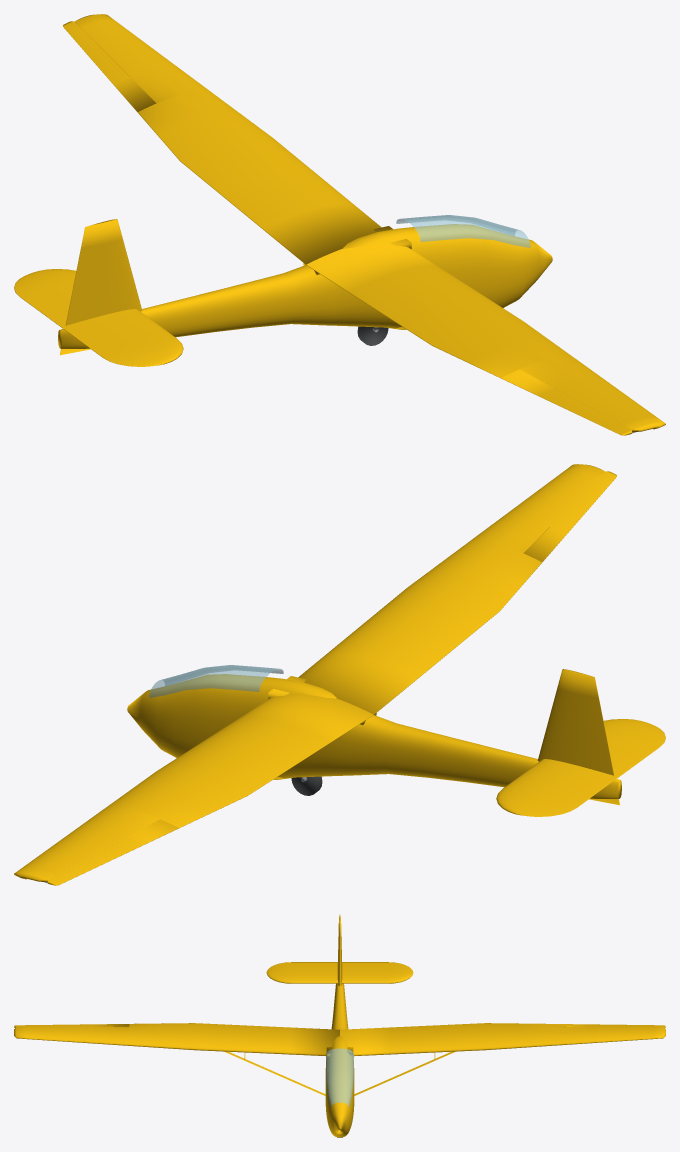
The model's file is glider-2-33-like-own.glb.
The picture shows the model from 3 angles, top to bottom: view 1: azimuth 30°, elevation 25°; view 2: azimuth 150°, elevation 25°; view 3: azimuth 270°, elevation 25°; orthographic projection. The views are drawn at different scales.
Visible parts, largest first — view 1: Wing.R, Wing.L, Fuselage, Stab, Fin, Canopy, Aileron.R, Aileron.L; view 2: Wing.L, Wing.R, Fuselage, Stab, Fin, Canopy, Aileron.L, Aileron.R; view 3: Wing.L, Wing.R, Fuselage, Stab, Canopy.
Boxes of the visible parts, x1=… form: Wing.R: x1=74, y1=14, x2=381, y2=264; Wing.L: x1=306, y1=243, x2=665, y2=432; Fuselage: x1=58, y1=224, x2=552, y2=348; Stab: x1=14, y1=269, x2=183, y2=366; Fin: x1=60, y1=219, x2=142, y2=355; Canopy: x1=396, y1=215, x2=530, y2=247; Aileron.R: x1=63, y1=21, x2=156, y2=112; Aileron.L: x1=501, y1=369, x2=631, y2=435; Wing.L: x1=298, y1=464, x2=605, y2=714; Wing.R: x1=14, y1=693, x2=373, y2=882; Fuselage: x1=127, y1=674, x2=621, y2=798; Stab: x1=496, y1=719, x2=665, y2=816; Fin: x1=537, y1=669, x2=619, y2=805; Canopy: x1=149, y1=665, x2=283, y2=697; Aileron.L: x1=523, y1=471, x2=616, y2=562; Aileron.R: x1=48, y1=819, x2=178, y2=885; Wing.L: x1=14, y1=1023, x2=339, y2=1056; Wing.R: x1=340, y1=1023, x2=665, y2=1056; Fuselage: x1=325, y1=983, x2=354, y2=1137; Stab: x1=266, y1=962, x2=413, y2=983; Canopy: x1=326, y1=1048, x2=353, y2=1107.
Size of the model in its own units: 7.86 by 2.86 by 15.56.
